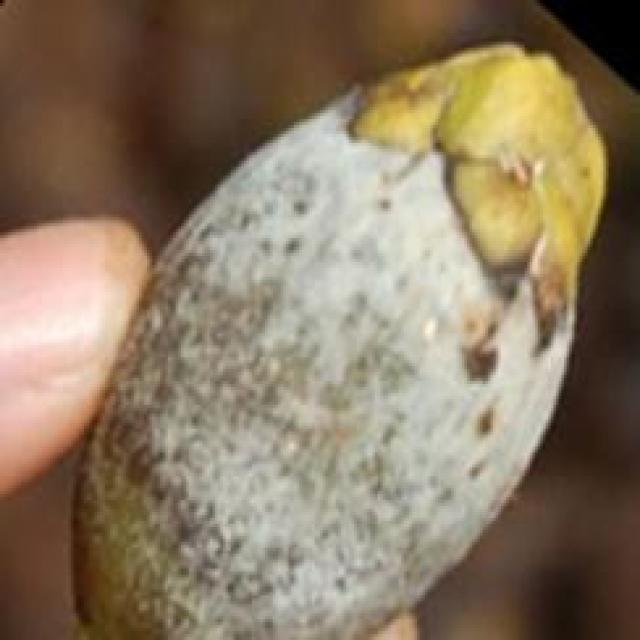damaged: (68, 45, 611, 637)
